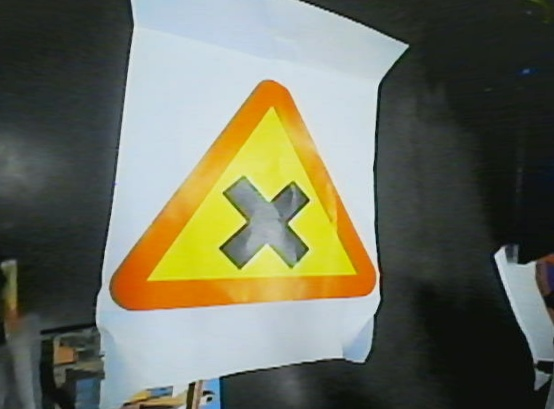junction: (101, 69, 390, 318)
